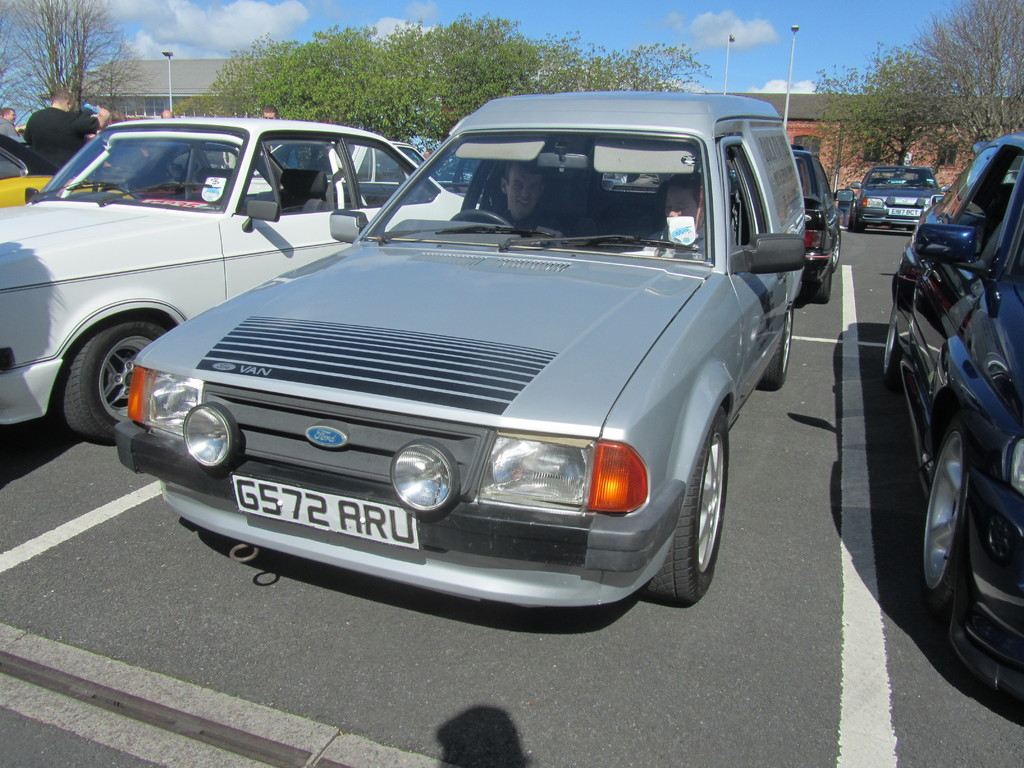Car: (0, 97, 846, 440), (876, 127, 1023, 718), (848, 161, 949, 229)
